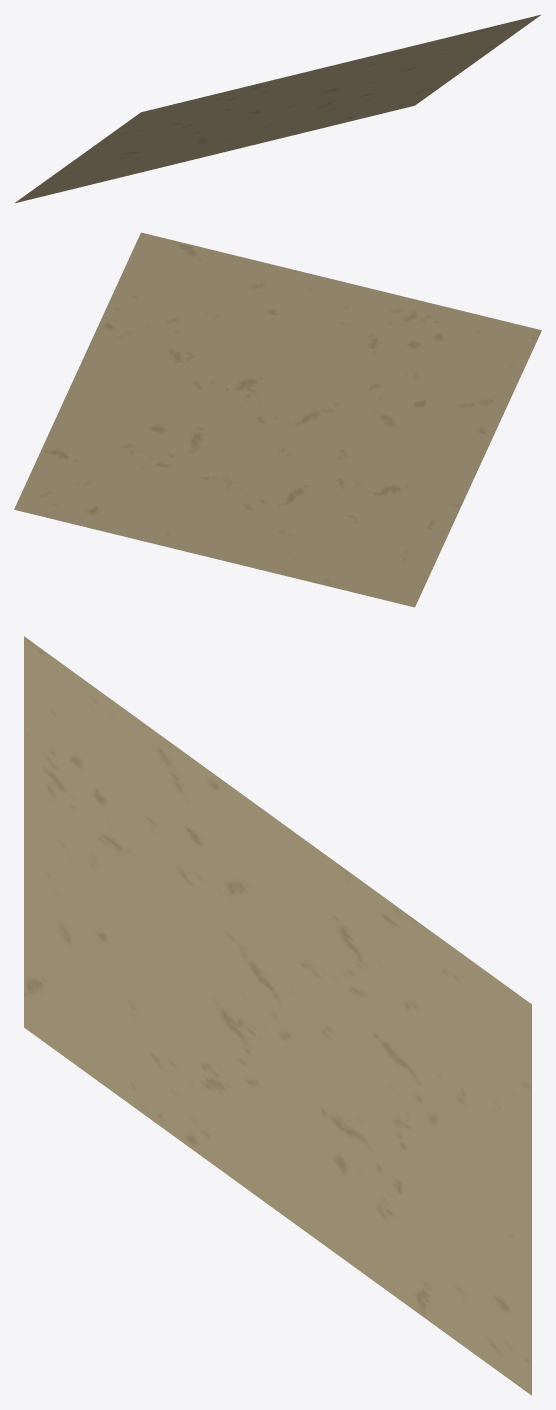
The model's file is SW_ENV_StationStair_Mid_Ceiling_FF_Collision.fbx.
3 views of the same model, one above another, from view 1: azimuth 30°, elevation 25°; view 2: azimuth 150°, elevation 25°; view 3: azimuth 270°, elevation 25° (orthographic). The views are drawn at different scales.
Parts seen in each view (by area): view 1: SW_ENV_StationStair_Mid_Ceiling_FF_Collision; view 2: SW_ENV_StationStair_Mid_Ceiling_FF_Collision; view 3: SW_ENV_StationStair_Mid_Ceiling_FF_Collision.
Part boxes in pixels (bbox=[...]): SW_ENV_StationStair_Mid_Ceiling_FF_Collision: bbox=[15, 15, 540, 202]; SW_ENV_StationStair_Mid_Ceiling_FF_Collision: bbox=[14, 232, 541, 607]; SW_ENV_StationStair_Mid_Ceiling_FF_Collision: bbox=[24, 636, 531, 1395].
Bounding box in the file's own units: 410 × 180 × 225.
